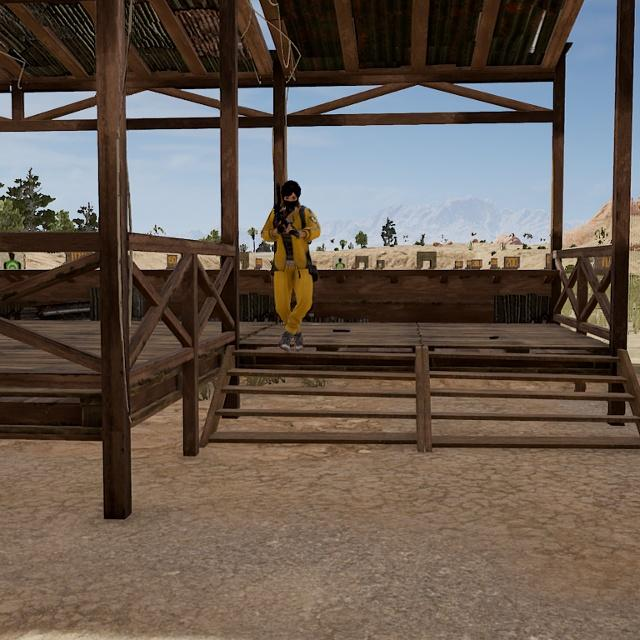head: (279, 179, 304, 209)
people: (259, 178, 320, 351)
